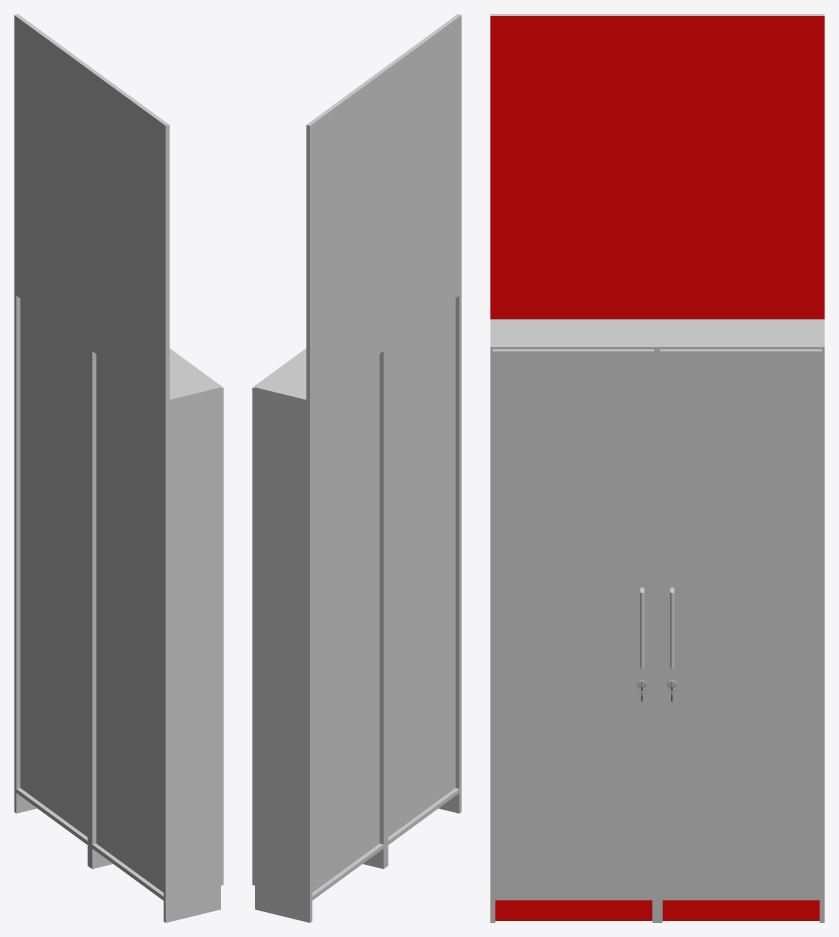
File: Controlado 1,00.glb
3 views of the same model, side by side, from view 1: azimuth 30°, elevation 25°; view 2: azimuth 150°, elevation 25°; view 3: azimuth 270°, elevation 25° (orthographic). The views are drawn at different scales.
Parts seen in each view (by area): view 1: Geom3D_ (×12); view 2: Geom3D_ (×12); view 3: Geom3D_ (×8), Geom3D (×4).
Boxes of the visible parts, x1,y1,x2,y2 form: Geom3D_ (×12): (14, 14, 223, 922); Geom3D_ (×12): (252, 14, 461, 922); Geom3D_ (×8): (490, 319, 824, 922); Geom3D (×4): (490, 16, 824, 920).
Bounding box in the file's own units: 0.2631 × 2.9 × 1.
